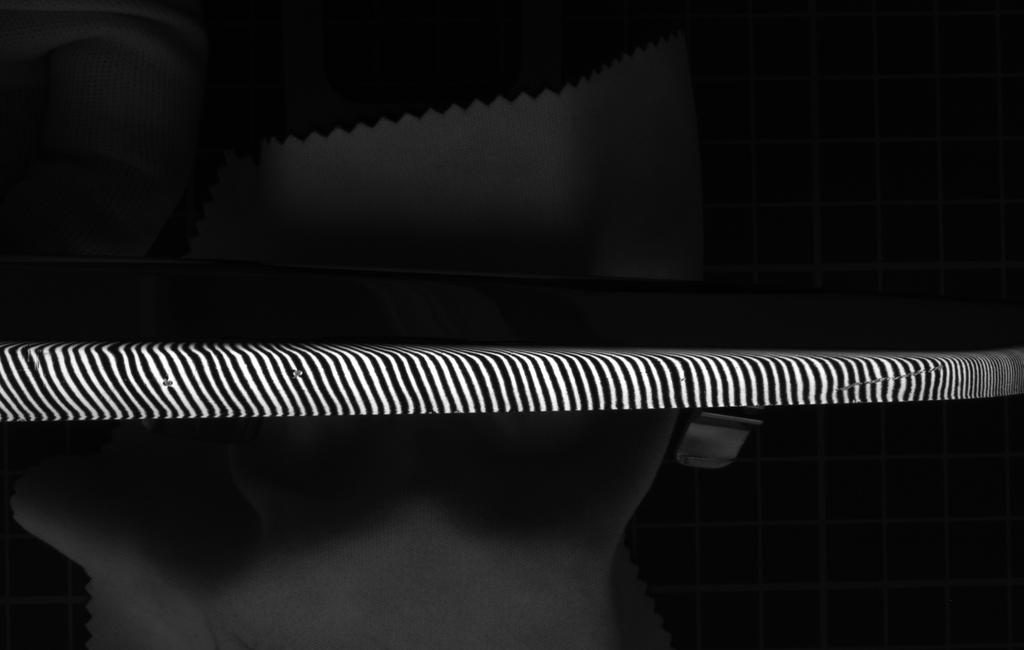Pierced: (152, 370, 181, 391), (286, 363, 311, 382)
Scratch: (823, 359, 952, 399)
